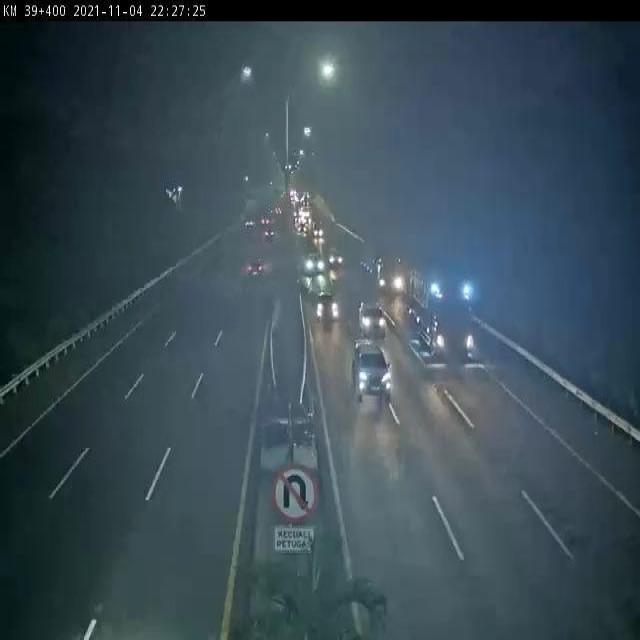ARABA: (350, 338, 391, 398), (358, 299, 389, 332), (312, 288, 341, 323), (244, 257, 265, 280)
KAMYONET: (306, 251, 325, 277)
TIR: (404, 260, 476, 361), (357, 244, 403, 296)
